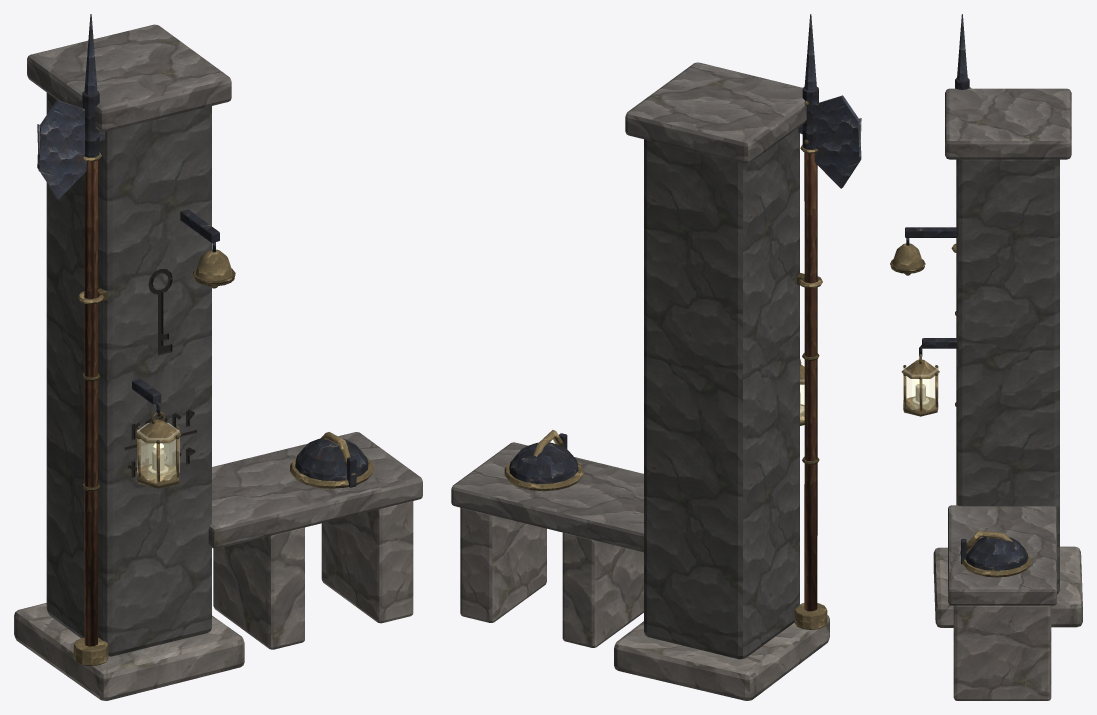
File: bv_guard_post.glb
3 renders of one model, left to right at view 1: azimuth 30°, elevation 25°; view 2: azimuth 150°, elevation 25°; view 3: azimuth 270°, elevation 25°, orthographic. The views are drawn at different scales.
Parts seen in each view (by area): view 1: model; view 2: model; view 3: model.
Boxes of the visible parts, x1=… form: model: x1=14, y1=14, x2=422, y2=700; model: x1=451, y1=14, x2=861, y2=700; model: x1=890, y1=14, x2=1082, y2=700.
Bounding box in the file's own units: 1.26 × 2.15 × 0.672.
15 materials, 10 textured.
